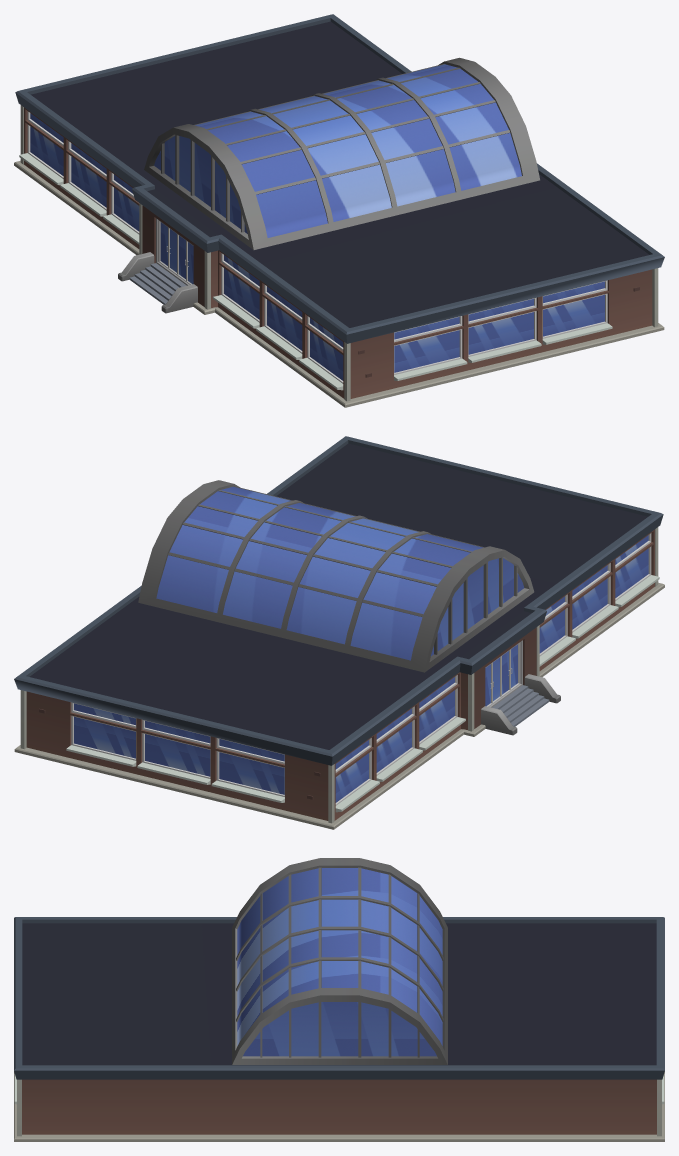
The model's file is Building_16_2_C.fbx.
3 renders of one model, top to bottom at view 1: azimuth 30°, elevation 25°; view 2: azimuth 150°, elevation 25°; view 3: azimuth 270°, elevation 25°, orthographic.
Parts seen in each view (by area): view 1: Building_16_2_C; view 2: Building_16_2_C; view 3: Building_16_2_C.
Boxes of the visible parts, x1,y1,x2,y2 form: Building_16_2_C: [14, 14, 664, 407]; Building_16_2_C: [14, 436, 664, 829]; Building_16_2_C: [14, 858, 664, 1141].
Size of the model in its own units: 1888 by 718 by 3026.
